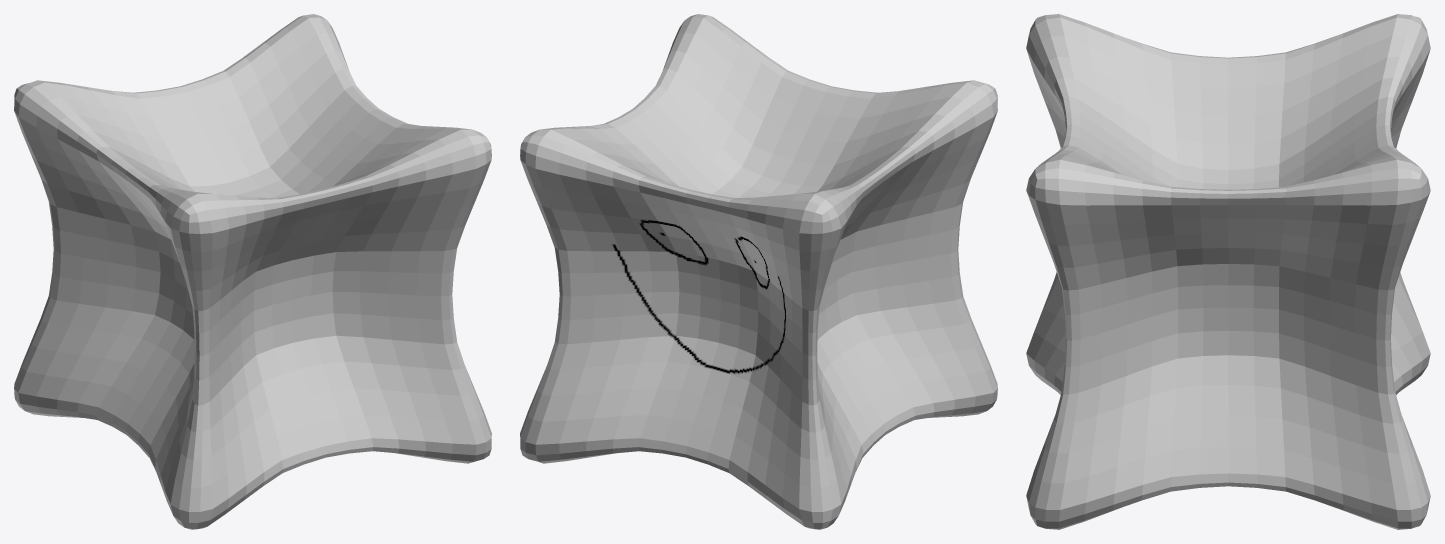
3 renders of one model, left to right at view 1: azimuth 30°, elevation 25°; view 2: azimuth 150°, elevation 25°; view 3: azimuth 270°, elevation 25°, orthographic. The views are drawn at different scales.
Visible parts, largest first — view 1: Cube; view 2: Cube; view 3: Cube.
Boxes of the visible parts, x1,y1,x2,y2 form: Cube: (14,14,491,529); Cube: (520,14,997,529); Cube: (1026,14,1430,529).
Bounding box in the file's own units: 4.73 × 4.73 × 4.73.
1 material, 1 textured.
